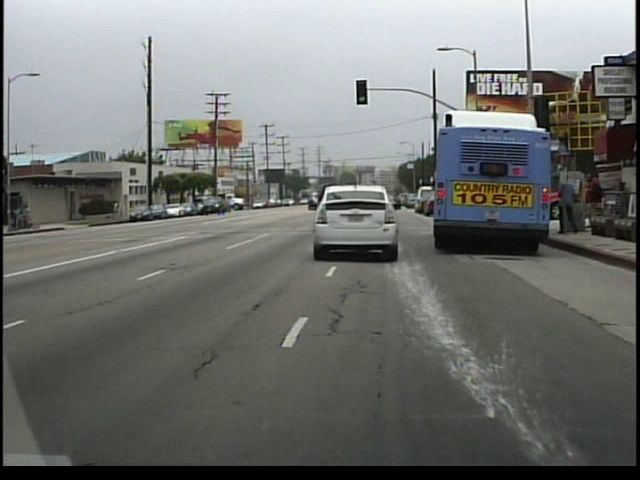person: (552, 172, 578, 239), (111, 195, 122, 219)
